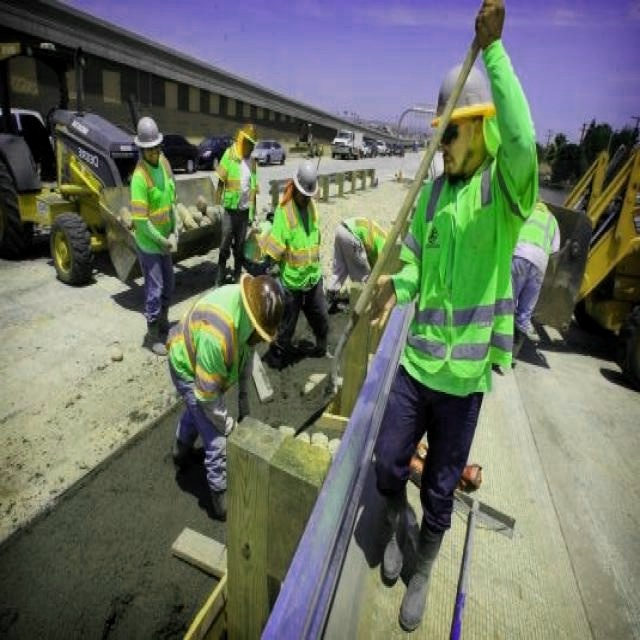Con_Casco: (237, 275, 279, 348), (133, 117, 164, 152), (293, 159, 322, 196)
Con_Chaleco: (403, 169, 514, 375), (167, 284, 235, 401), (131, 156, 175, 252), (279, 200, 322, 285)
